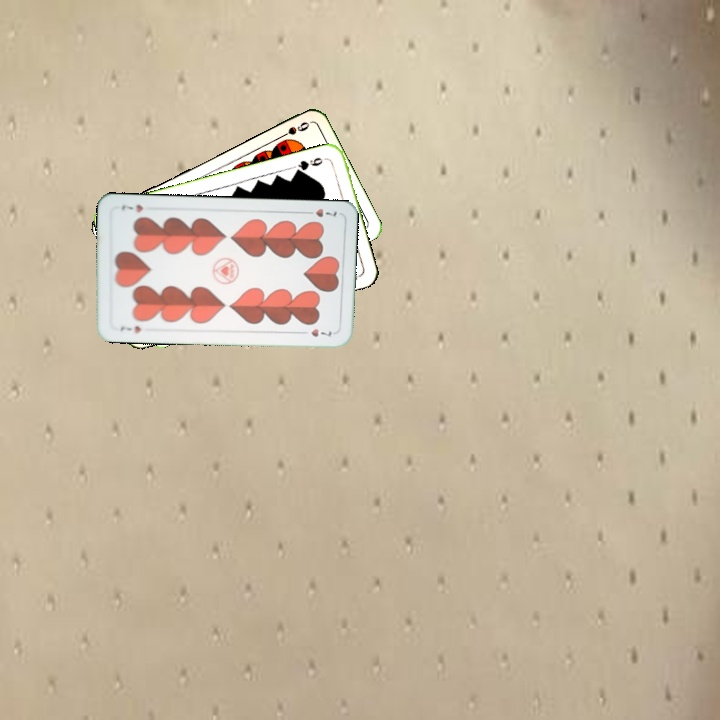G9: (291, 153, 330, 176)
H7: (301, 205, 340, 220), (116, 322, 144, 335)
S9: (274, 118, 312, 142)
